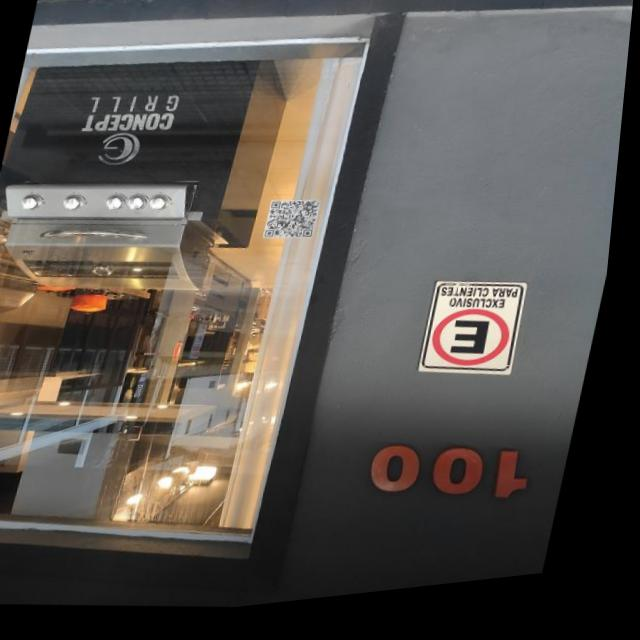qrcode: (269, 202, 324, 249)
